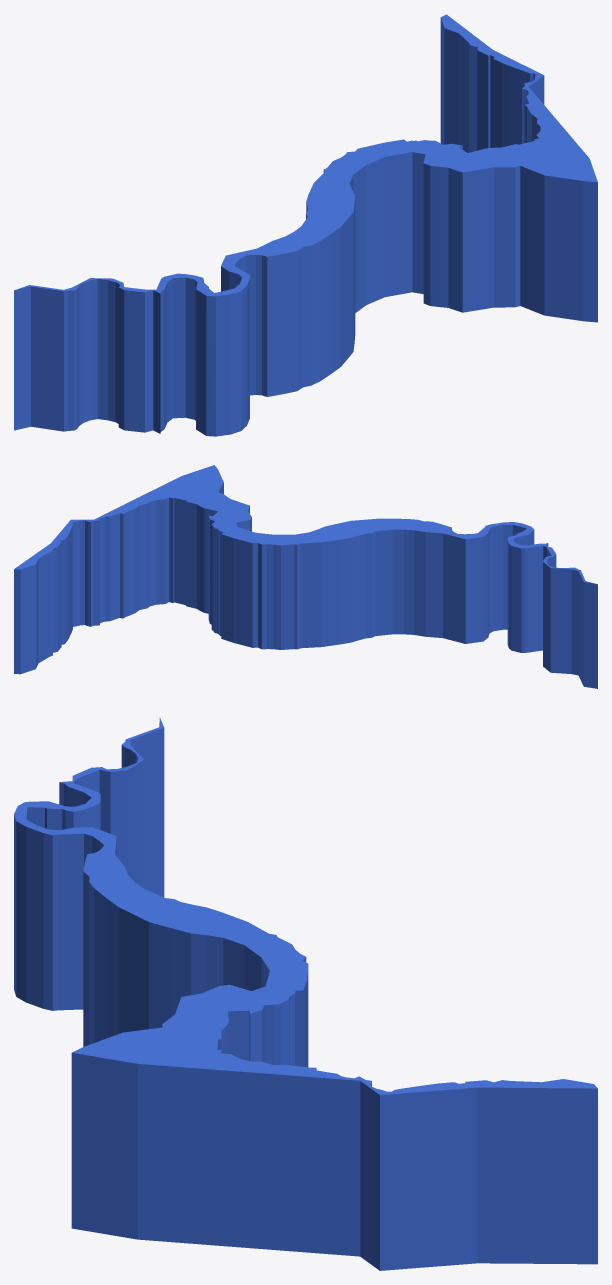
File: middlesex_river.glb
The picture shows the model from 3 angles, top to bottom: view 1: azimuth 30°, elevation 25°; view 2: azimuth 150°, elevation 25°; view 3: azimuth 270°, elevation 25°; orthographic projection. The views are drawn at different scales.
Parts seen in each view (by area): view 1: Plane.011; view 2: Plane.011; view 3: Plane.011.
Part boxes in pixels (x1,y1,x2,y2): Plane.011: [14, 14, 597, 436]; Plane.011: [14, 465, 597, 688]; Plane.011: [14, 718, 597, 1270].
Size of the model in its own units: 1.69 by 0.3658 by 1.1.
